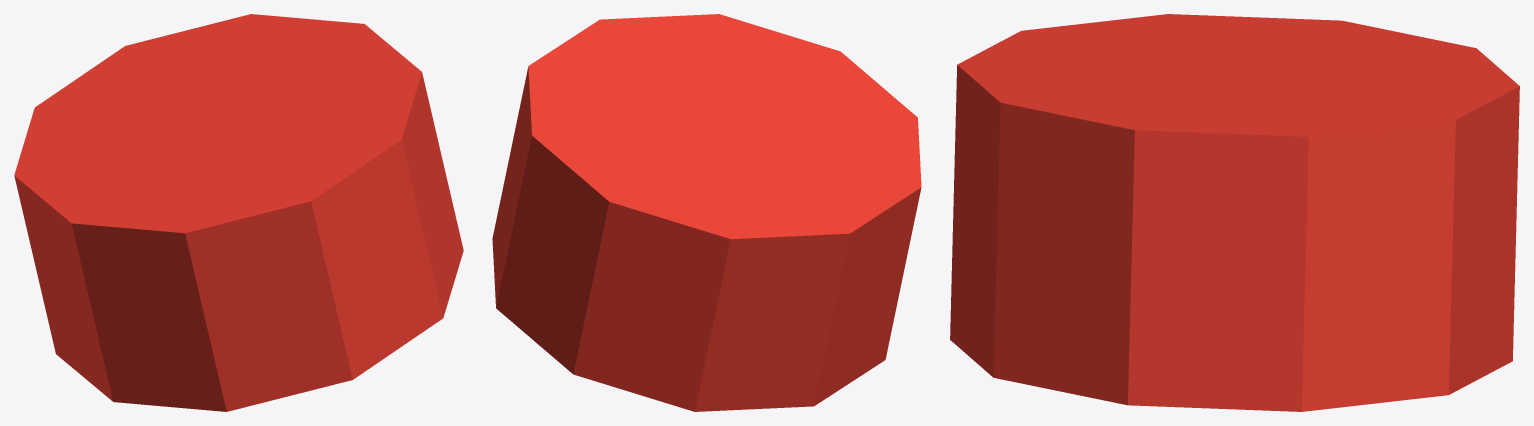
File: group465467018_lev3.glb
The picture shows the model from 3 angles, left to right: view 1: azimuth 30°, elevation 25°; view 2: azimuth 150°, elevation 25°; view 3: azimuth 270°, elevation 25°; orthographic projection. The views are drawn at different scales.
Parts seen in each view (by area): view 1: group465467018_lev3; view 2: group465467018_lev3; view 3: group465467018_lev3.
Part boxes in pixels (x1,y1,x2,y2): group465467018_lev3: [14, 14, 463, 411]; group465467018_lev3: [492, 14, 921, 411]; group465467018_lev3: [950, 14, 1519, 411].
Bounding box in the file's own units: 0.5793 × 0.3827 × 0.5551.
